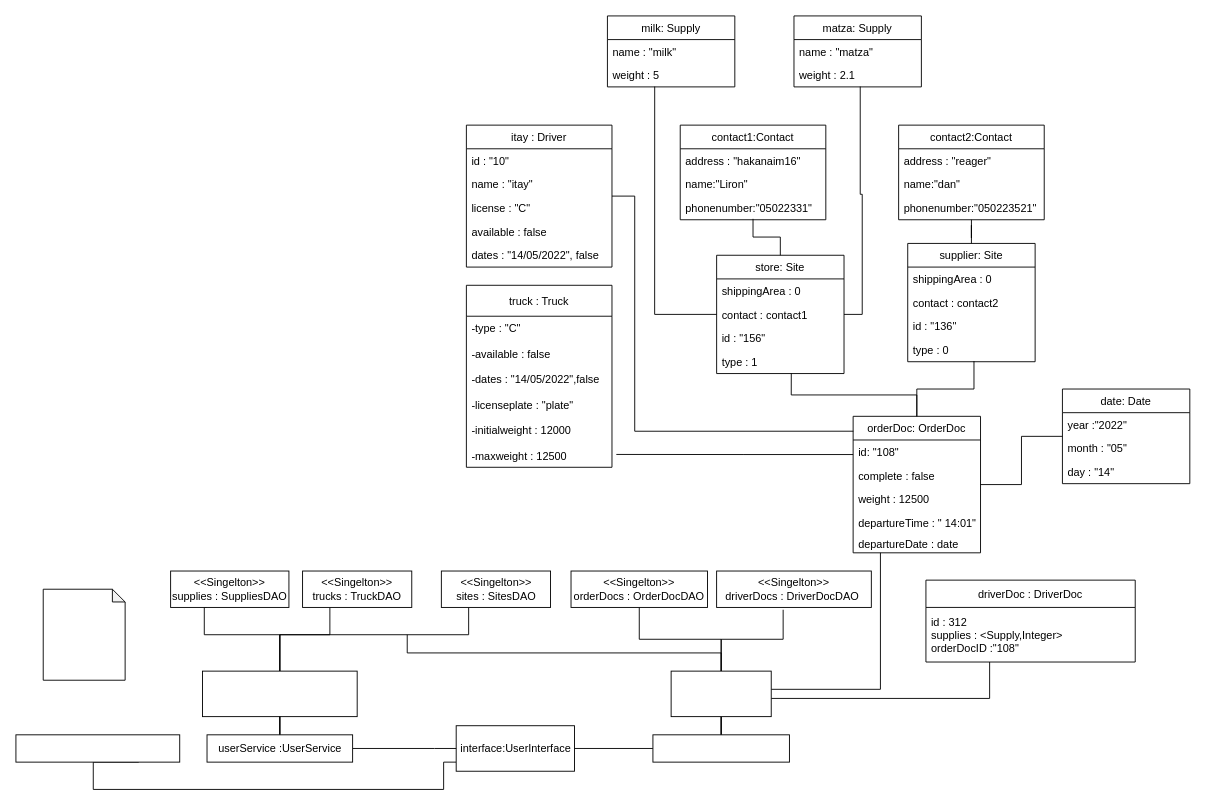
The diagram is 1206 pixels wide and 806 high, and some of its shapes have lost their labels. The shapes that lost their labels are listed below. From the top down, each one's centre as x and y in pixels, then its label:
(x=83, y=634): DriverService is communicating with the DAO as part of the employee module
(x=279, y=693): <<Singleton>> resourcectrl : ResourceCtrl
(x=720, y=693): <<Singelton>> orderCtrl:OrderCtrl
(x=97, y=748): driverService : DriverService
(x=720, y=748): orderService:OrderService
